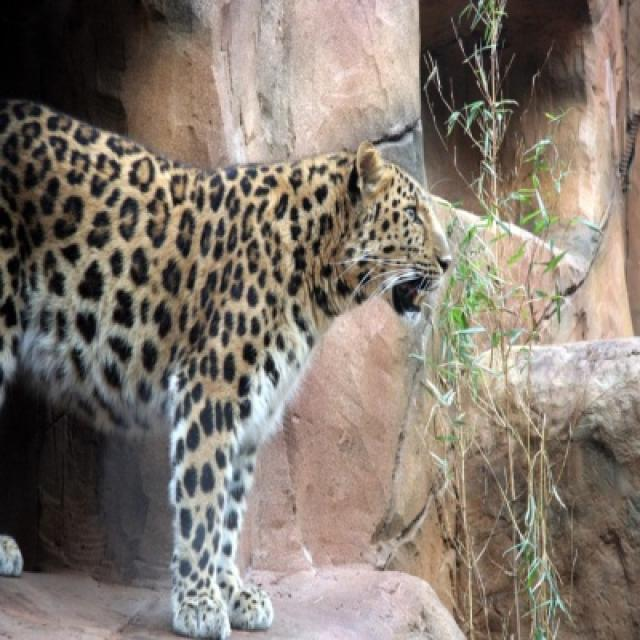Jaguar: (0, 101, 457, 638)
